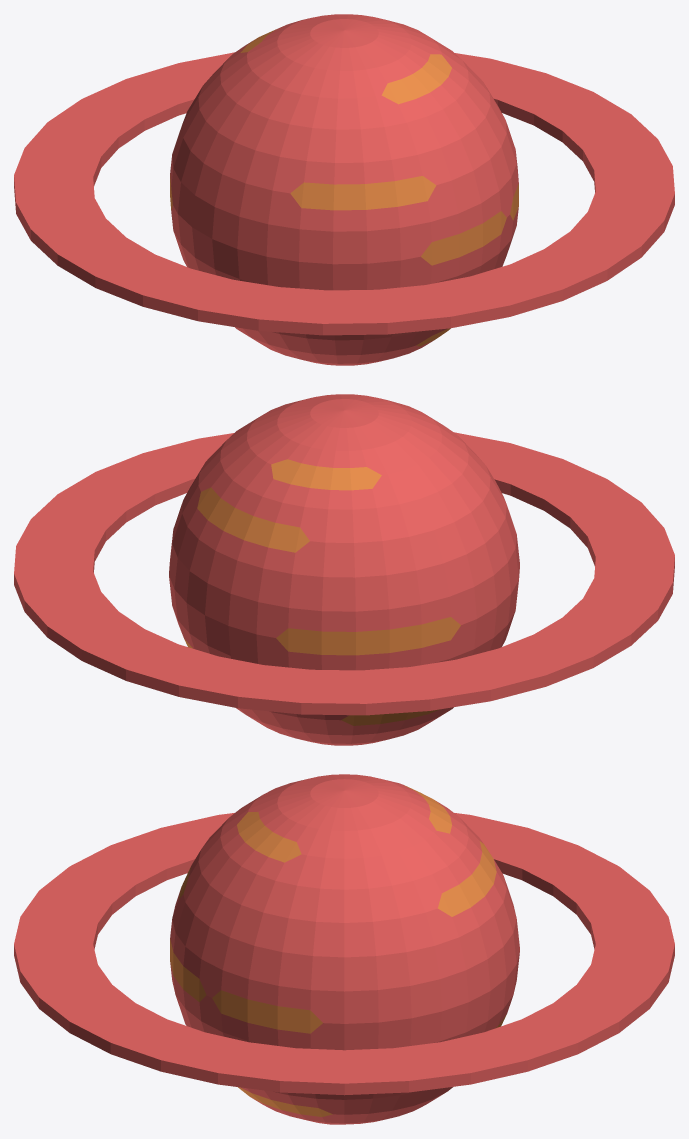
File: Planet_With_Ring.fbx
The picture shows the model from 3 angles, top to bottom: view 1: azimuth 30°, elevation 25°; view 2: azimuth 150°, elevation 25°; view 3: azimuth 270°, elevation 25°; orthographic projection.
Parts seen in each view (by area): view 1: Planet, Planet Ring; view 2: Planet, Planet Ring; view 3: Planet, Planet Ring.
Boxes of the visible parts, <box> form: Planet: <box>170,14,518,365</box>; Planet Ring: <box>14,52,674,335</box>; Planet: <box>169,394,519,745</box>; Planet Ring: <box>14,432,674,715</box>; Planet: <box>170,774,519,1124</box>; Planet Ring: <box>14,813,674,1095</box>.
Bounding box in the file's own units: 13.03 × 6.93 × 13.03.
